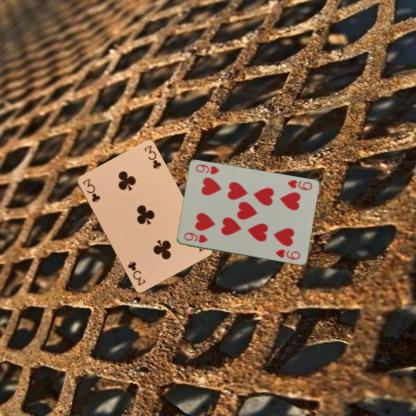3c: (80, 176, 101, 204)
9h: (285, 177, 313, 192), (182, 230, 209, 244)
